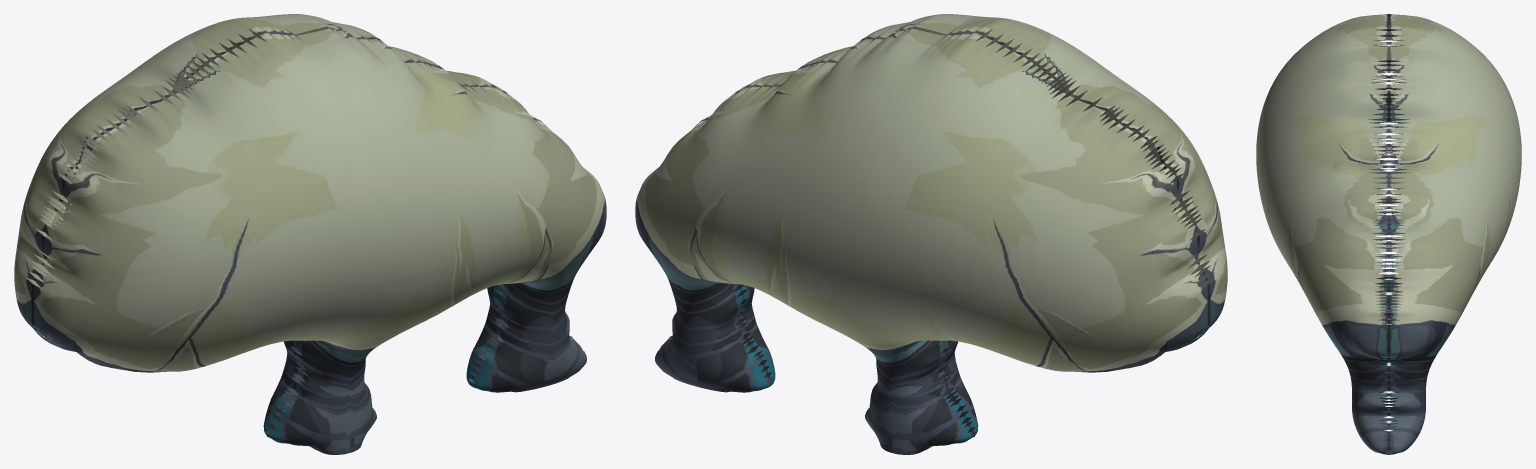
Rendered from stone_terrace.glb.
3 renders of one model, left to right at view 1: azimuth 30°, elevation 25°; view 2: azimuth 150°, elevation 25°; view 3: azimuth 270°, elevation 25°, orthographic. The views are drawn at different scales.
Parts seen in each view (by area): view 1: stone_terrace; view 2: stone_terrace; view 3: stone_terrace.
Part boxes in pixels (<box>): stone_terrace: <box>14,14,606,454</box>; stone_terrace: <box>635,14,1227,454</box>; stone_terrace: <box>1256,14,1521,454</box>.
Bounding box in the file's own units: 0.9889 × 0.7035 × 0.5321.
1 material, 1 textured.
